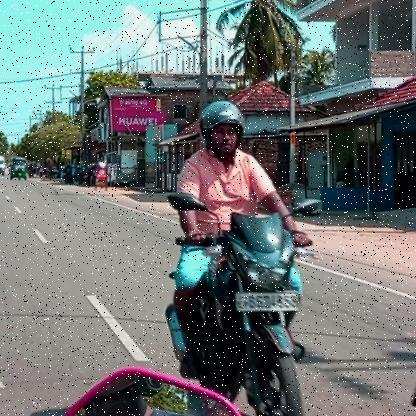motorcycle: (159, 208, 326, 416)
